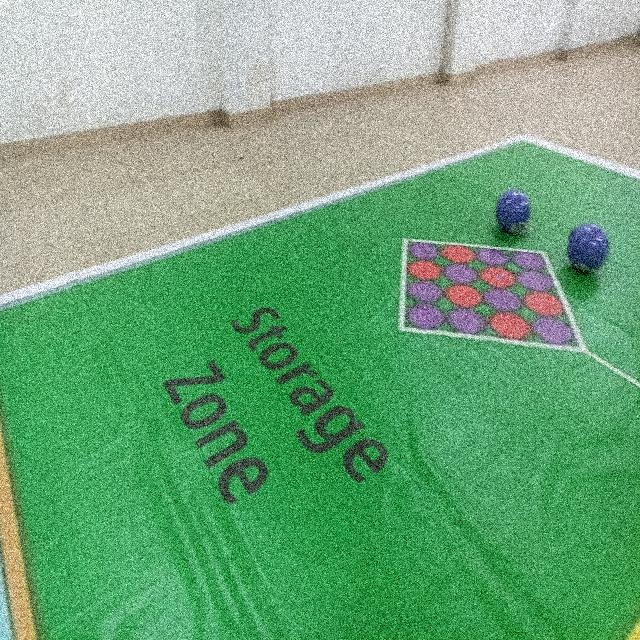purple_ball: (566, 220, 611, 276), (495, 186, 532, 236)
